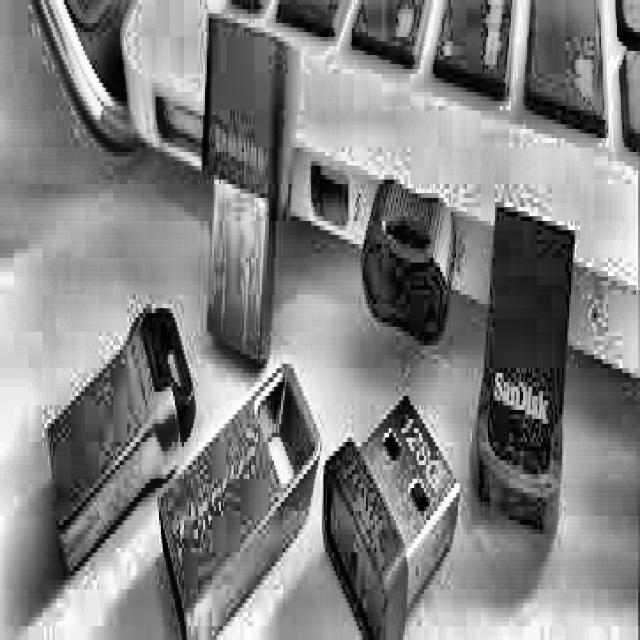Mug: (156, 355, 324, 640), (45, 300, 199, 586), (198, 6, 301, 378), (469, 202, 578, 553), (320, 383, 466, 636), (359, 169, 458, 349)
